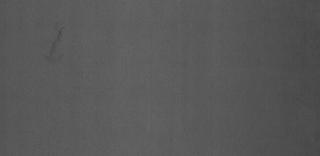water spot: (41, 22, 77, 66)
